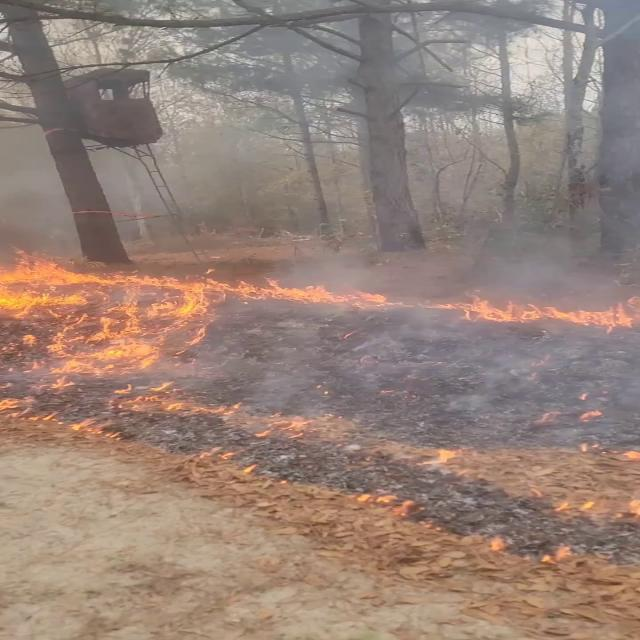Fire: (0, 257, 226, 432), (185, 270, 393, 310), (442, 294, 640, 332)
Smoke: (98, 0, 640, 280)
